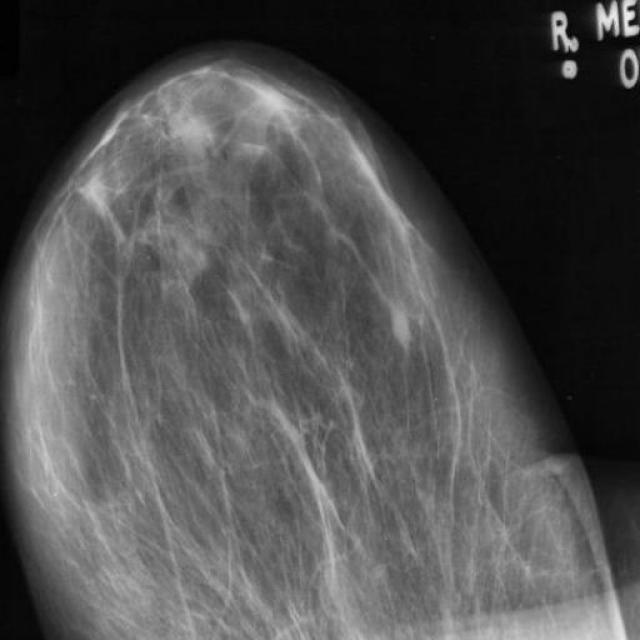cancer: (378, 286, 418, 366)
